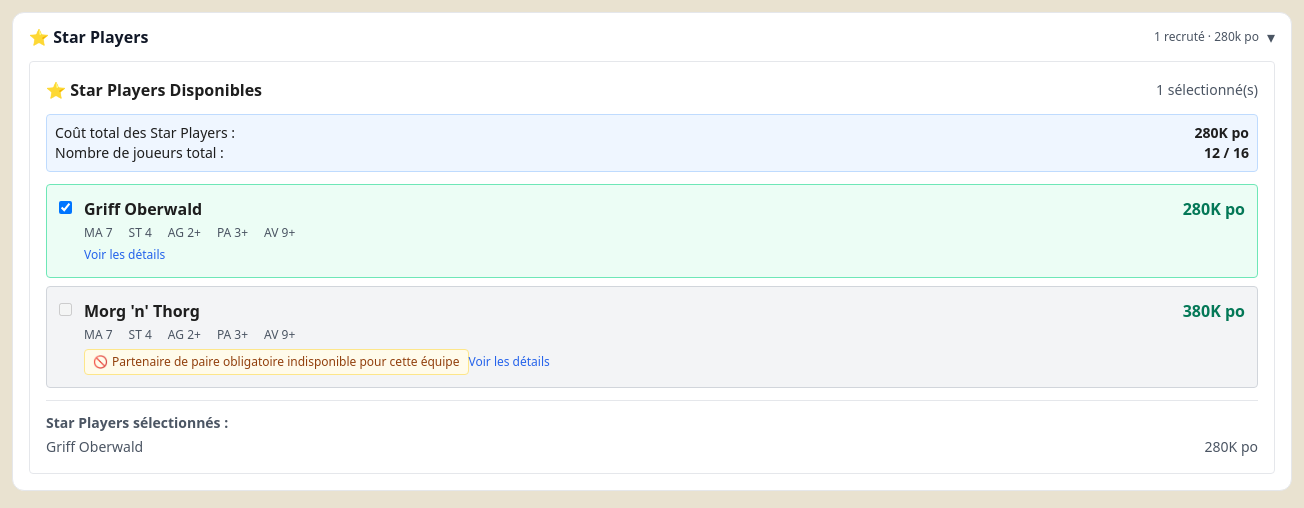
Test: TeamStarPlayersEditor — repli du bloc › replie le catalogue et garde le résumé visible
The width and height of the screenshot is (1304, 508).
Expected: the checkbox with test id "star-player-griff_oberwald" is shown, [59,201,72,214]
Click the button with test id "team-star-players-toggle".
click(89, 37)  # box [13,13,1291,61]
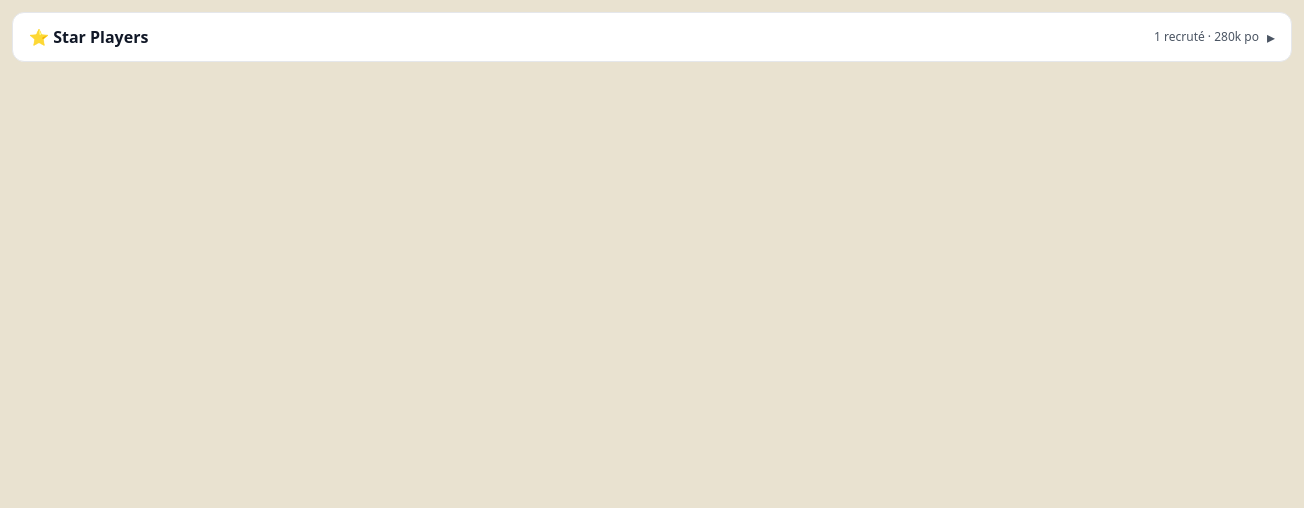
Expected: the text with test id "team-star-players-summary" shows "280k po", [1154,29,1259,45]
Expected: the checkbox with test id "star-player-griff_oberwald" is gone
Expected: the button with test id "team-star-players-toggle" is collapsed, [13,13,1291,61]
